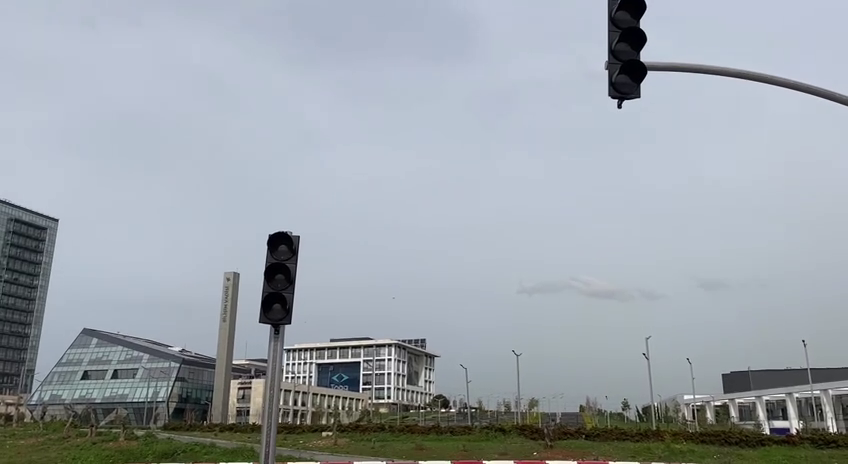trafficLight: (600, 1, 651, 111), (254, 225, 305, 333)
